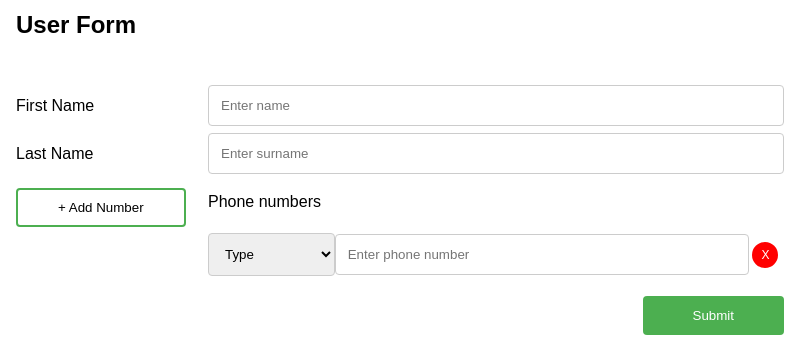
with empty name field › renders the name validation error
The image size is (801, 352).
Click the button "Submit". click: (713, 315)
box: [642,296,784,335]
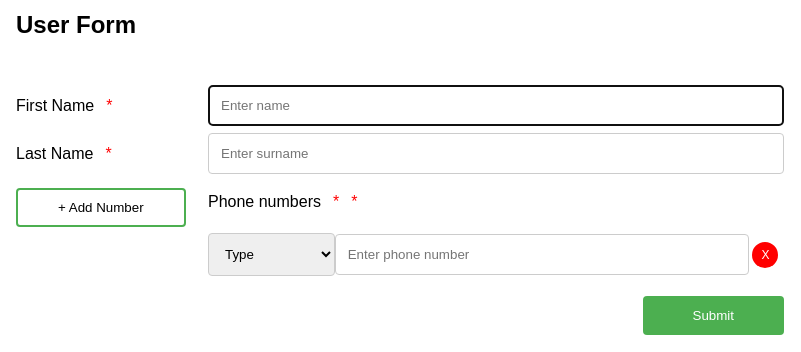
Check: the label with test id "name-error" reads "*", box [106,97,112,114]
